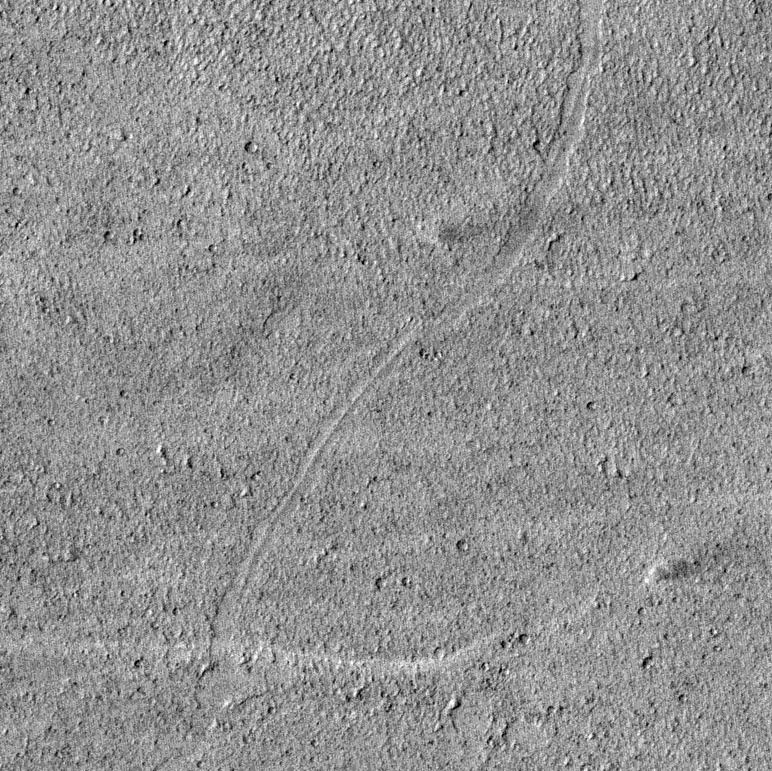dust_devil: (422, 202, 540, 249), (638, 539, 731, 588)
